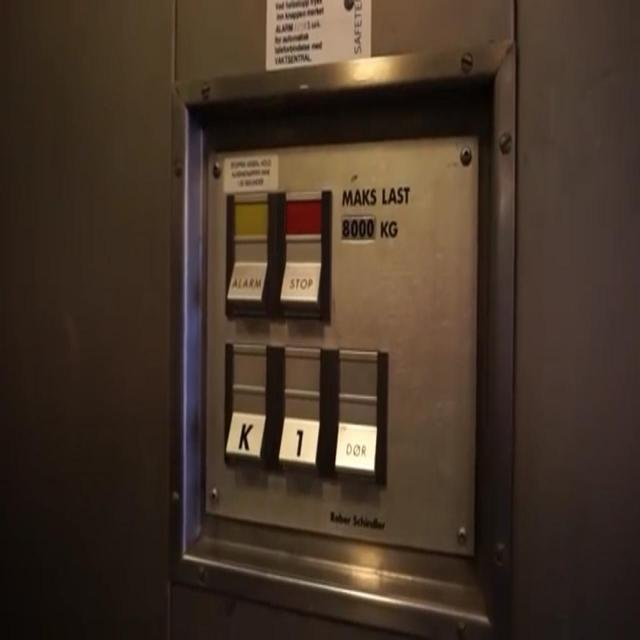1: (276, 412, 321, 468)
DOR: (332, 419, 378, 473)
K: (222, 405, 267, 465)
text_alarm bell: (223, 256, 269, 307)
text_stop: (276, 256, 323, 306)
